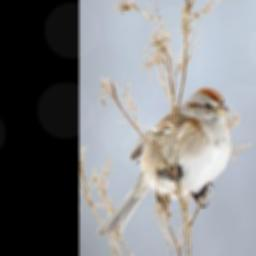Sparrow: (97, 86, 232, 236)
